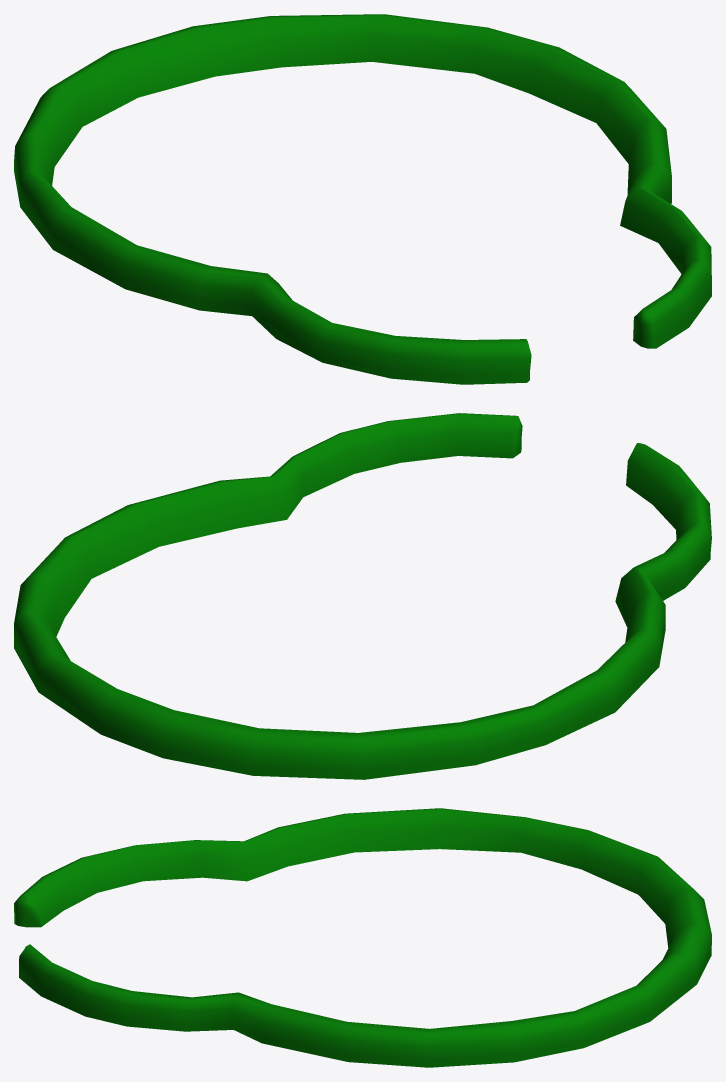
Rendered from SM_Y_01_Yard_01.fbx.
3 renders of one model, top to bottom at view 1: azimuth 30°, elevation 25°; view 2: azimuth 150°, elevation 25°; view 3: azimuth 270°, elevation 25°, orthographic. The views are drawn at different scales.
Parts seen in each view (by area): view 1: SM_Y_01_Yard_01; view 2: SM_Y_01_Yard_01; view 3: SM_Y_01_Yard_01.
Part boxes in pixels (x1=…): SM_Y_01_Yard_01: x1=14, y1=14, x2=711, y2=384; SM_Y_01_Yard_01: x1=14, y1=413, x2=711, y2=779; SM_Y_01_Yard_01: x1=14, y1=808, x2=711, y2=1067.
Bounding box in the file's own units: 2551 × 168 × 3223.
